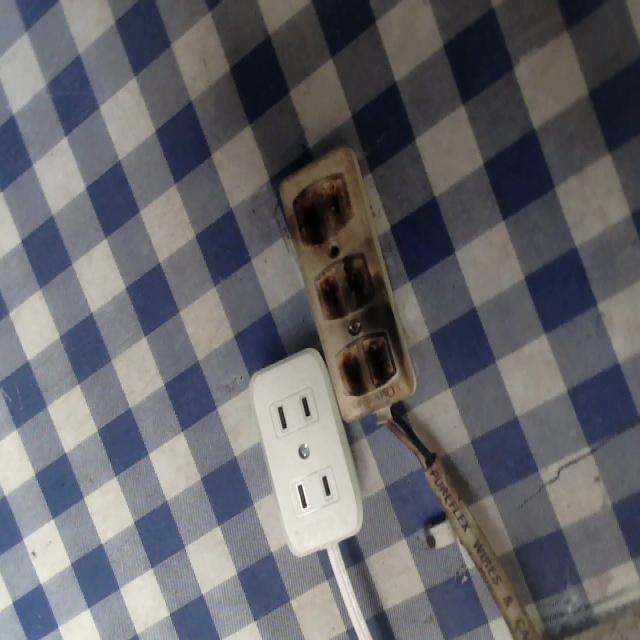-: (285, 167, 353, 248), (332, 325, 400, 399), (308, 252, 376, 319)
